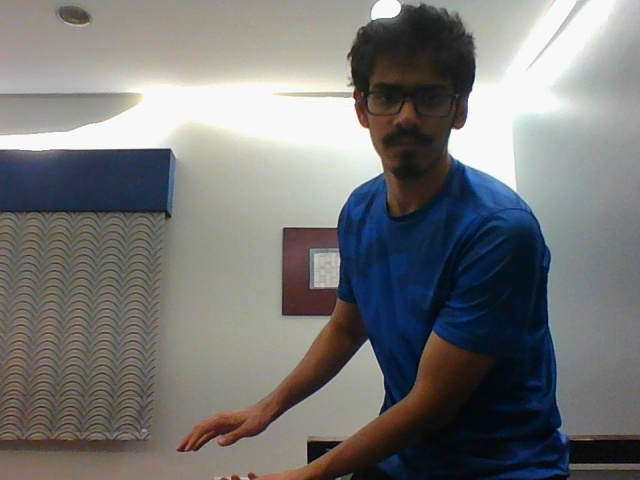charge: (172, 404, 315, 478)
